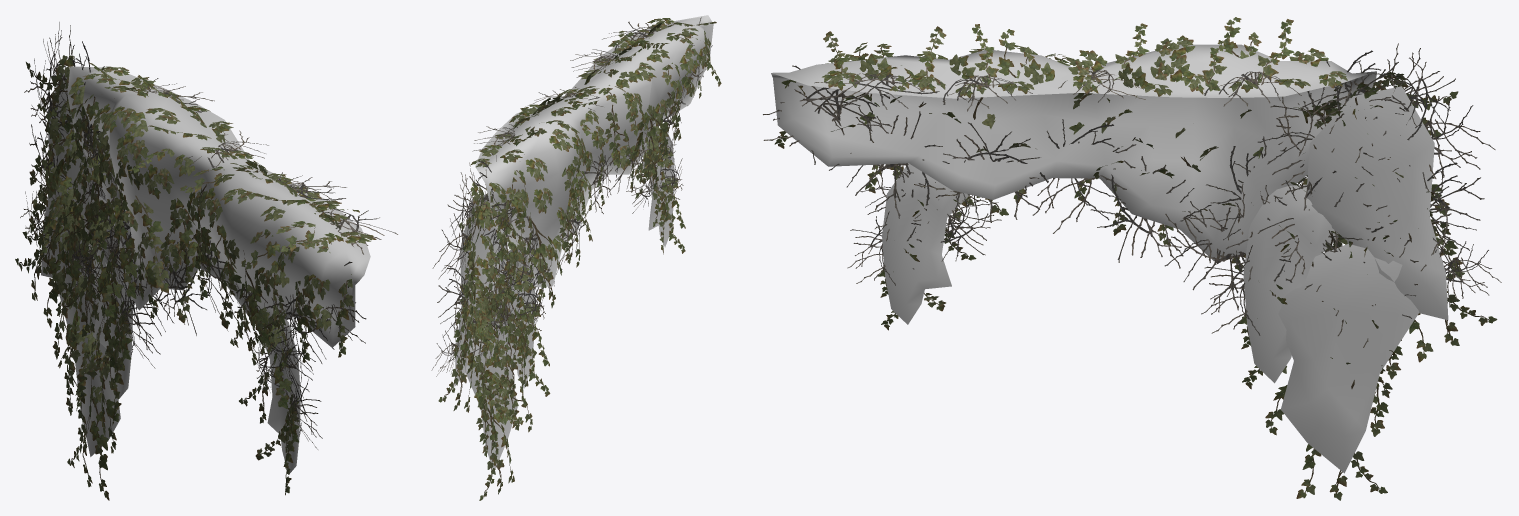
The model's file is ivy07lod0.dae.
The picture shows the model from 3 angles, left to right: view 1: azimuth 30°, elevation 25°; view 2: azimuth 150°, elevation 25°; view 3: azimuth 270°, elevation 25°; orthographic projection. The views are drawn at different scales.
Visible parts, largest first — view 1: SM_Ivy_Preset_07_LOD; view 2: SM_Ivy_Preset_07_LOD; view 3: SM_Ivy_Preset_07_LOD.
Boxes of the visible parts, box(x1,y1,x2,y2) form: SM_Ivy_Preset_07_LOD: box(15, 22, 397, 500); SM_Ivy_Preset_07_LOD: box(431, 15, 721, 500); SM_Ivy_Preset_07_LOD: box(763, 17, 1501, 500).
Size of the model in its own units: 1.41 by 4.46 by 6.44.
